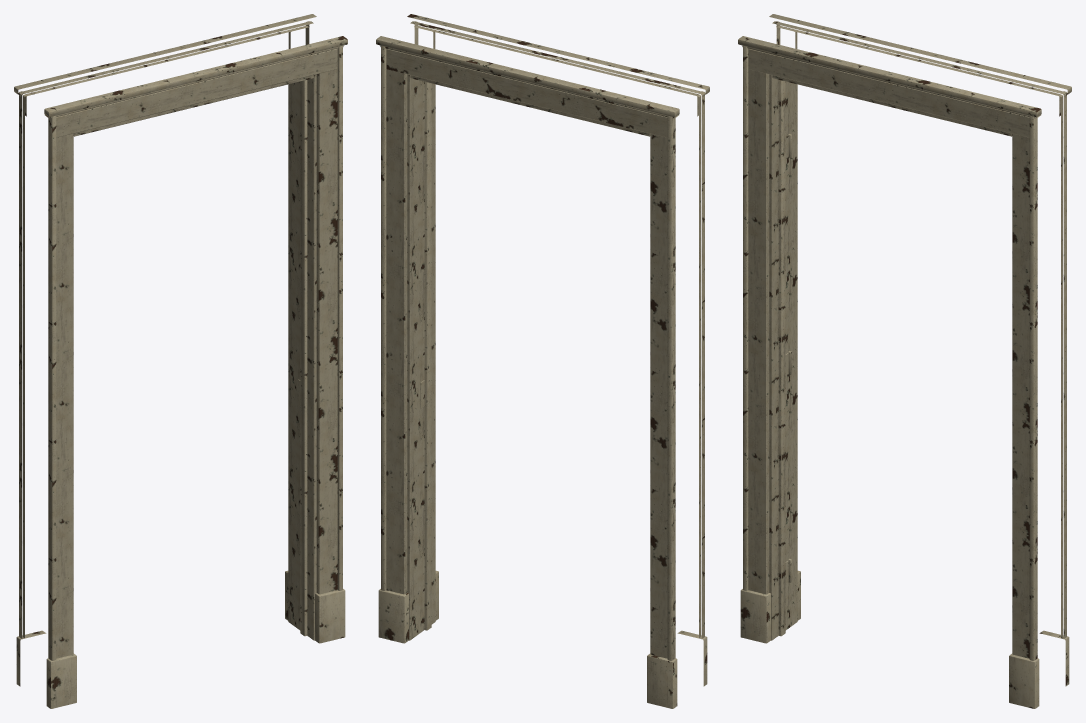
File: doorway_casing.glb
3 views of the same model, side by side, from view 1: azimuth 30°, elevation 25°; view 2: azimuth 150°, elevation 25°; view 3: azimuth 330°, elevation 25° (orthographic).
Parts seen in each view (by area): view 1: doorway_casing; view 2: doorway_casing; view 3: doorway_casing.
Part boxes in pixels (x1,y1,x2,y2): doorway_casing: (14,14,347,708); doorway_casing: (376,14,709,708); doorway_casing: (738,14,1071,708).
Bounding box in the file's own units: 1.33 × 2.53 × 0.272.
Materials: 1 (1 with a texture image).
